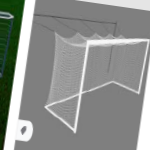goals: (43, 29, 150, 135)
